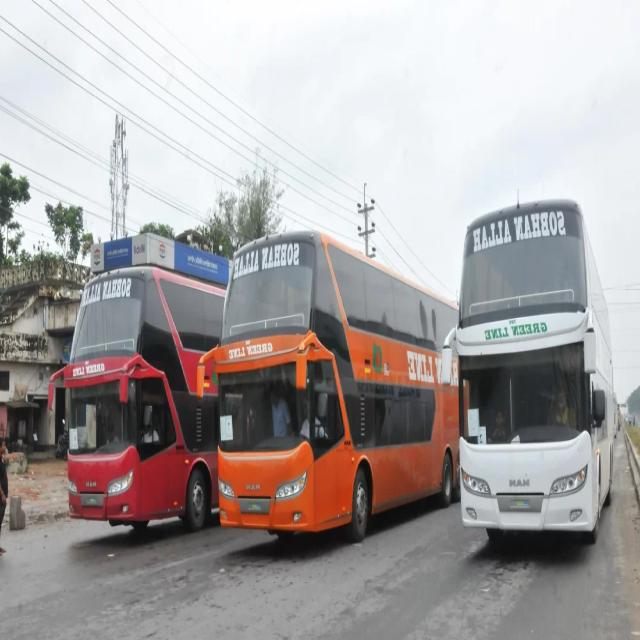Double decker: (211, 221, 479, 573), (53, 254, 366, 550), (443, 179, 626, 575)
